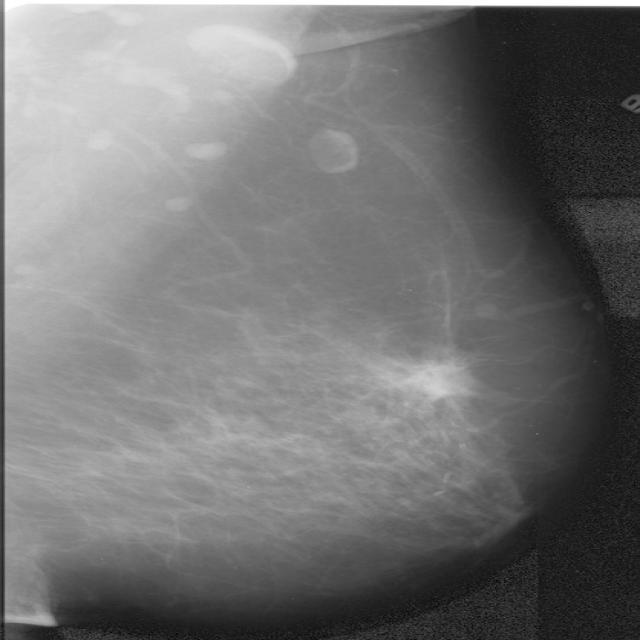tumour: (397, 361, 470, 399)
